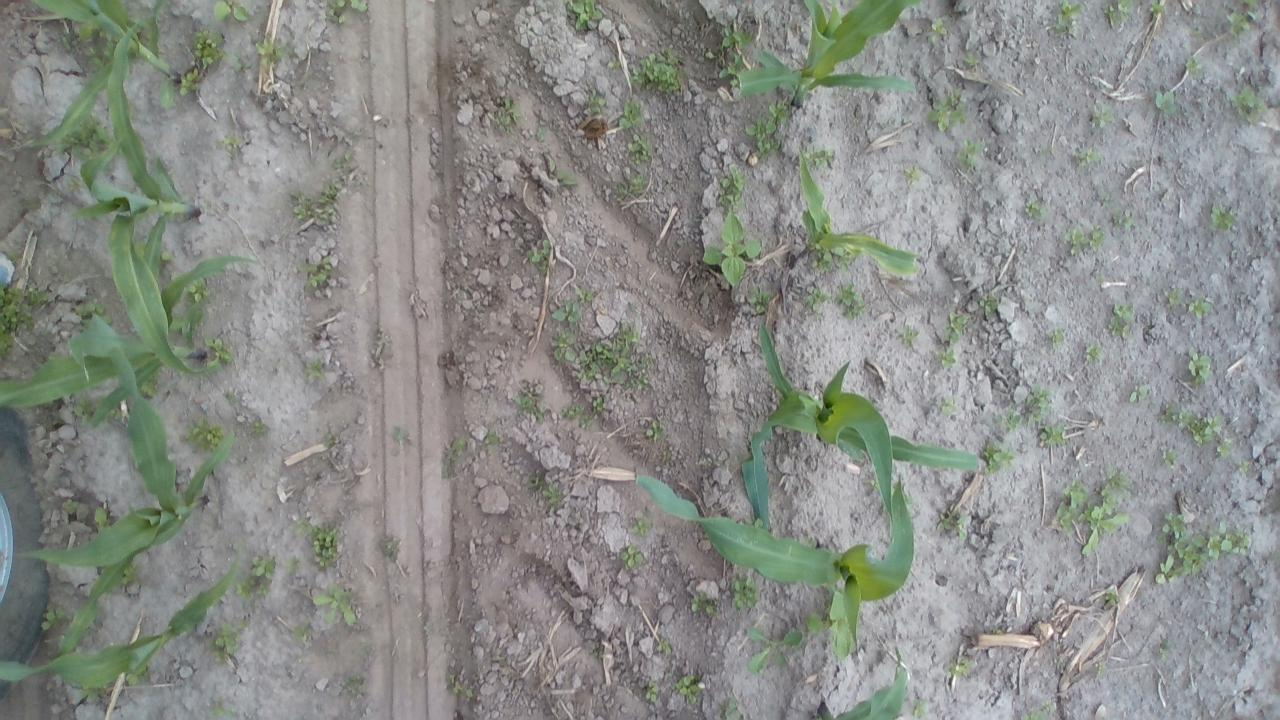Maize: (15, 316, 236, 653), (634, 470, 917, 658), (78, 23, 224, 374), (743, 318, 980, 534), (0, 255, 255, 427), (0, 558, 233, 682), (27, 0, 188, 150), (734, 0, 924, 115), (786, 138, 920, 284), (816, 649, 909, 720)
Weeds: (549, 286, 649, 394), (1155, 513, 1251, 583), (700, 212, 764, 298), (1156, 400, 1238, 456), (174, 29, 233, 94), (630, 42, 695, 98), (0, 286, 52, 352), (745, 97, 799, 159), (742, 624, 804, 676), (1080, 501, 1130, 562), (999, 386, 1046, 437), (292, 181, 344, 227), (710, 23, 751, 77), (925, 84, 968, 134), (236, 554, 279, 602), (311, 584, 357, 627), (1039, 1, 1084, 42), (300, 519, 342, 562), (1049, 480, 1083, 533), (979, 438, 1024, 477), (1221, 0, 1262, 42), (1234, 83, 1272, 128), (562, 393, 604, 433), (730, 573, 769, 614), (1162, 283, 1213, 314), (293, 255, 330, 294), (216, 618, 248, 662), (442, 437, 472, 482), (715, 166, 747, 208), (183, 416, 219, 452), (568, 0, 606, 34), (611, 172, 654, 202), (256, 30, 288, 70), (835, 278, 867, 317), (934, 509, 974, 538), (948, 140, 984, 172), (1090, 100, 1122, 136), (212, 0, 258, 25), (516, 380, 540, 427), (1094, 470, 1131, 500), (618, 98, 652, 130), (1100, 0, 1136, 30), (171, 308, 206, 338), (1108, 302, 1136, 339), (945, 312, 972, 350), (80, 114, 114, 144), (1068, 224, 1104, 252), (328, 0, 370, 23), (928, 14, 958, 46), (545, 156, 575, 188), (690, 593, 721, 623), (530, 238, 558, 271), (1188, 348, 1212, 386), (1207, 202, 1239, 230), (1042, 420, 1070, 450), (676, 672, 702, 704), (374, 536, 404, 563), (621, 547, 649, 575), (627, 134, 654, 162), (448, 671, 474, 700), (811, 248, 848, 268), (38, 602, 64, 630), (1072, 146, 1102, 170), (498, 96, 520, 126), (749, 283, 771, 313), (950, 654, 978, 677), (806, 148, 838, 168), (1152, 90, 1176, 116), (802, 286, 824, 314), (208, 338, 230, 366), (1129, 383, 1153, 406), (638, 418, 664, 439), (1022, 702, 1052, 720), (1026, 198, 1051, 219), (982, 291, 1002, 317), (208, 700, 234, 720), (1110, 208, 1136, 228), (76, 298, 104, 316), (898, 322, 916, 350), (348, 677, 372, 698), (222, 138, 245, 159), (124, 565, 147, 586), (294, 620, 314, 644), (75, 398, 94, 423), (936, 346, 956, 369), (630, 512, 650, 535), (392, 426, 415, 446), (541, 481, 561, 502), (903, 163, 925, 182), (304, 360, 325, 379), (644, 679, 659, 705), (248, 417, 268, 436), (1083, 343, 1104, 361), (584, 96, 604, 114), (190, 279, 208, 299), (1184, 57, 1206, 73), (80, 25, 98, 44), (911, 699, 929, 718), (1162, 444, 1180, 463), (1050, 328, 1068, 346), (940, 396, 960, 412), (960, 49, 978, 66), (140, 380, 160, 395), (93, 509, 108, 528), (1145, 0, 1162, 16), (1102, 591, 1120, 605), (537, 122, 548, 144), (287, 556, 300, 574), (659, 638, 675, 652), (481, 435, 501, 446), (1238, 459, 1252, 474), (68, 174, 81, 190), (162, 248, 174, 262)
